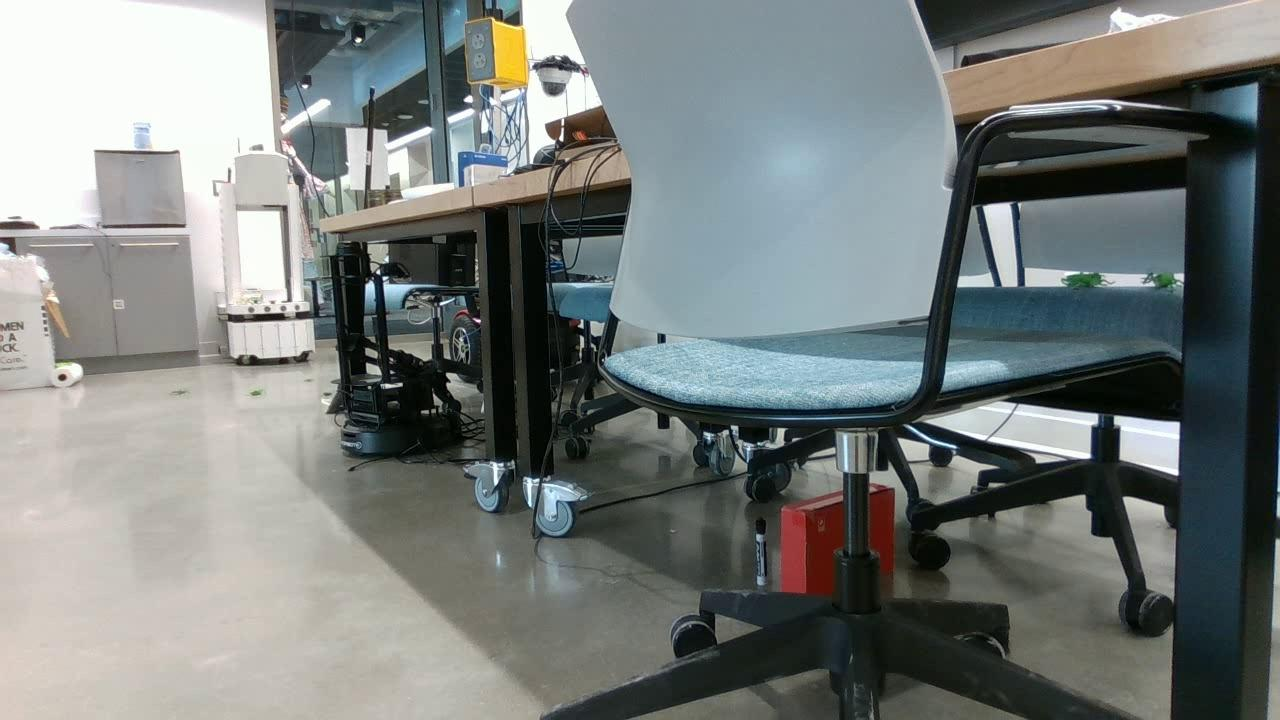grasshopper: (1061, 272, 1113, 287), (1142, 271, 1185, 287)
